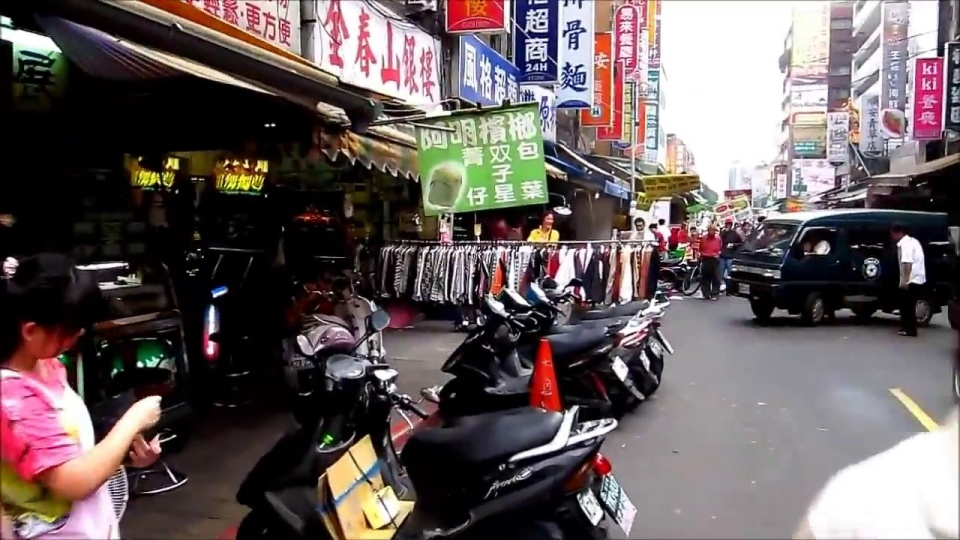person_head: (0, 255, 86, 361), (539, 211, 556, 231), (894, 222, 909, 240), (633, 217, 645, 230), (707, 225, 717, 239), (723, 219, 733, 231)
person_vbox: (0, 255, 162, 540), (885, 221, 926, 341), (697, 220, 723, 303), (719, 214, 740, 296), (522, 209, 564, 249)
